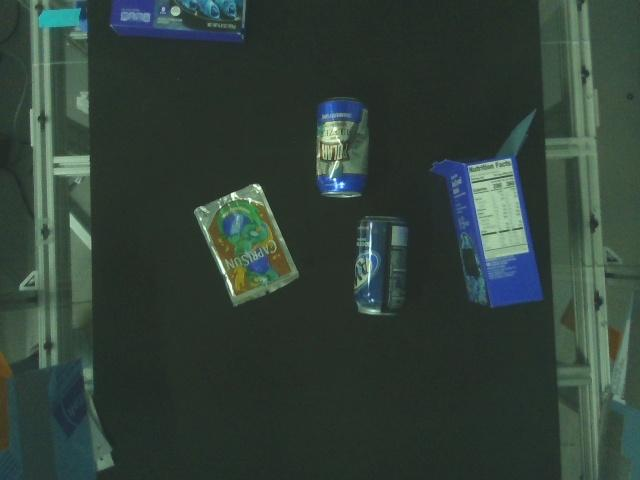cardboard: (428, 107, 543, 308), (107, 0, 249, 45)
metal: (354, 216, 411, 316), (314, 98, 369, 198)
plastic: (194, 183, 298, 308)
